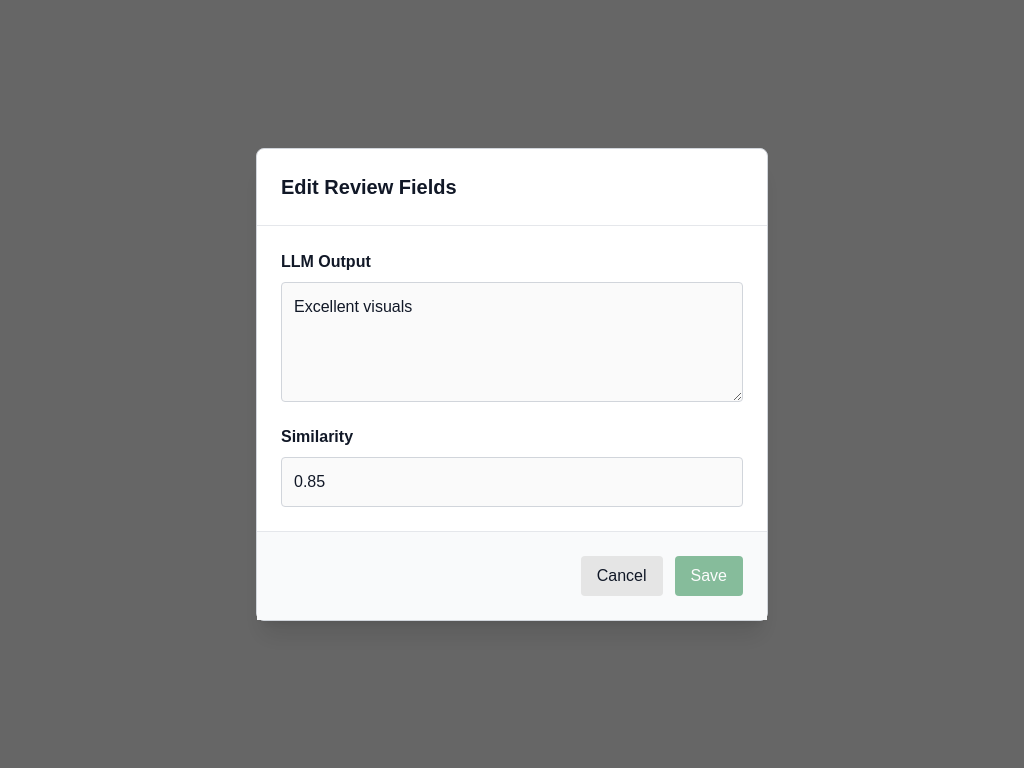
EditResultModal › shows loading state while saving
Replace the text in the text box showing "Excellent visuals" with "Amazing graphics". click: (512, 342)
box: [281,282,743,402]
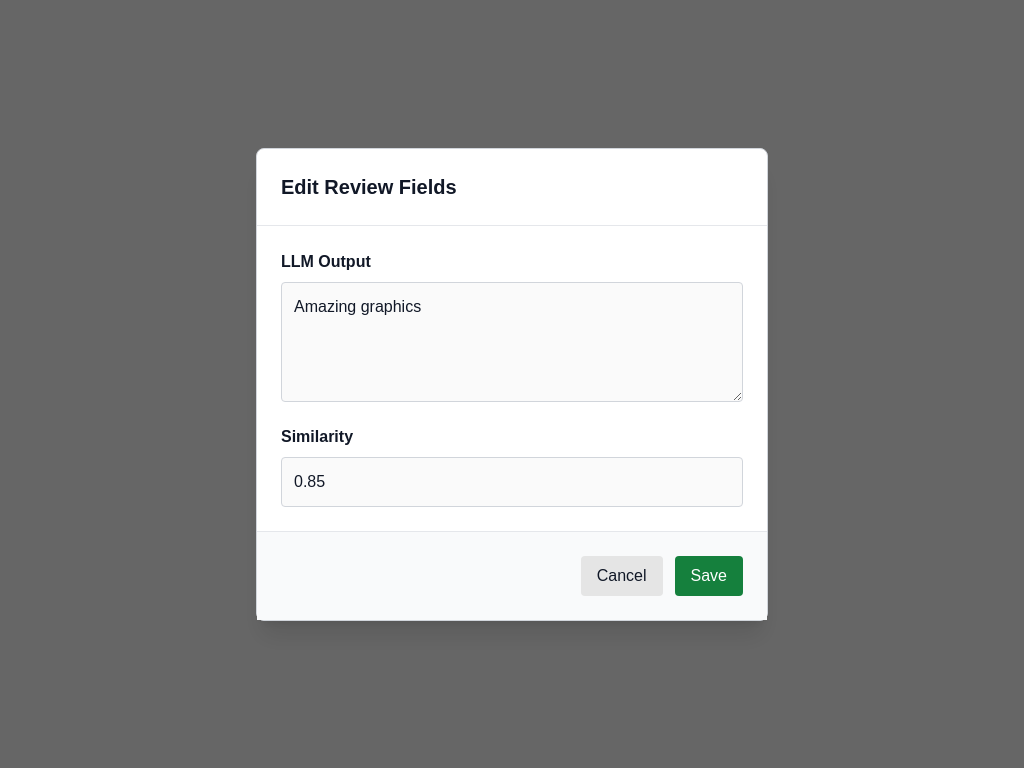
Click the button "Save". click: (709, 576)
box: [674,556,743,596]
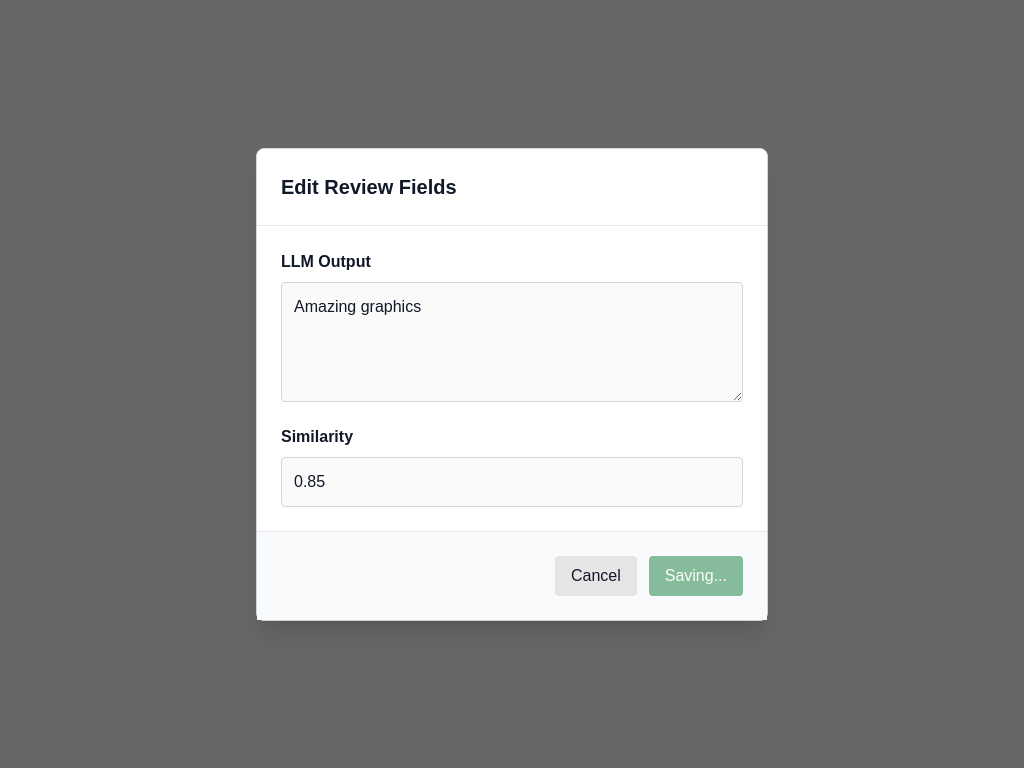
Now the button "Saving..." is disabled, box [649,556,743,596]
